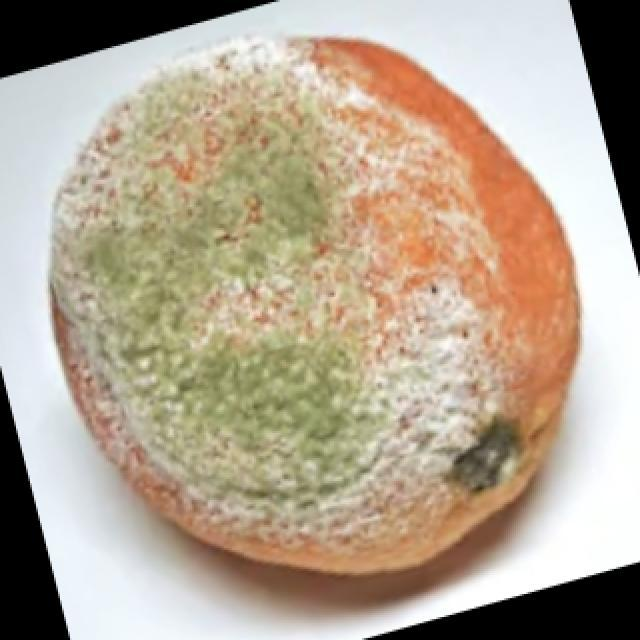sangat-busuk: (49, 37, 578, 573)
